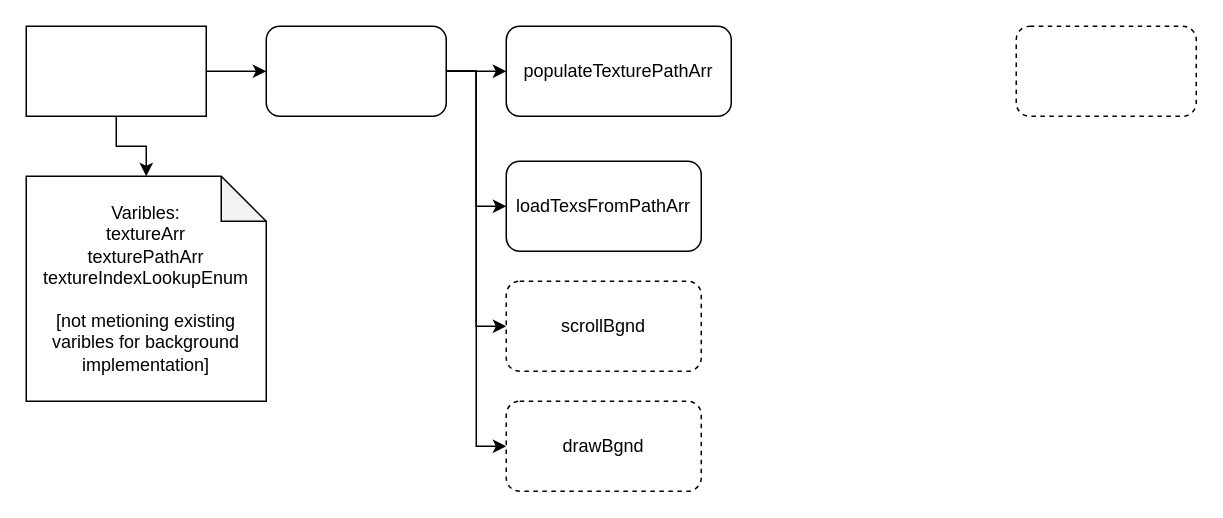
Some shapes in this 1223 by 518 pixel diagram are drawn without their labels. The centre of each missing label's shape, as x and y in pixels:
"dotted = existing from template/lib" belongs at [1105,70].
"loadTextures" belongs at [355,70].
"textures" belongs at [115,70].
